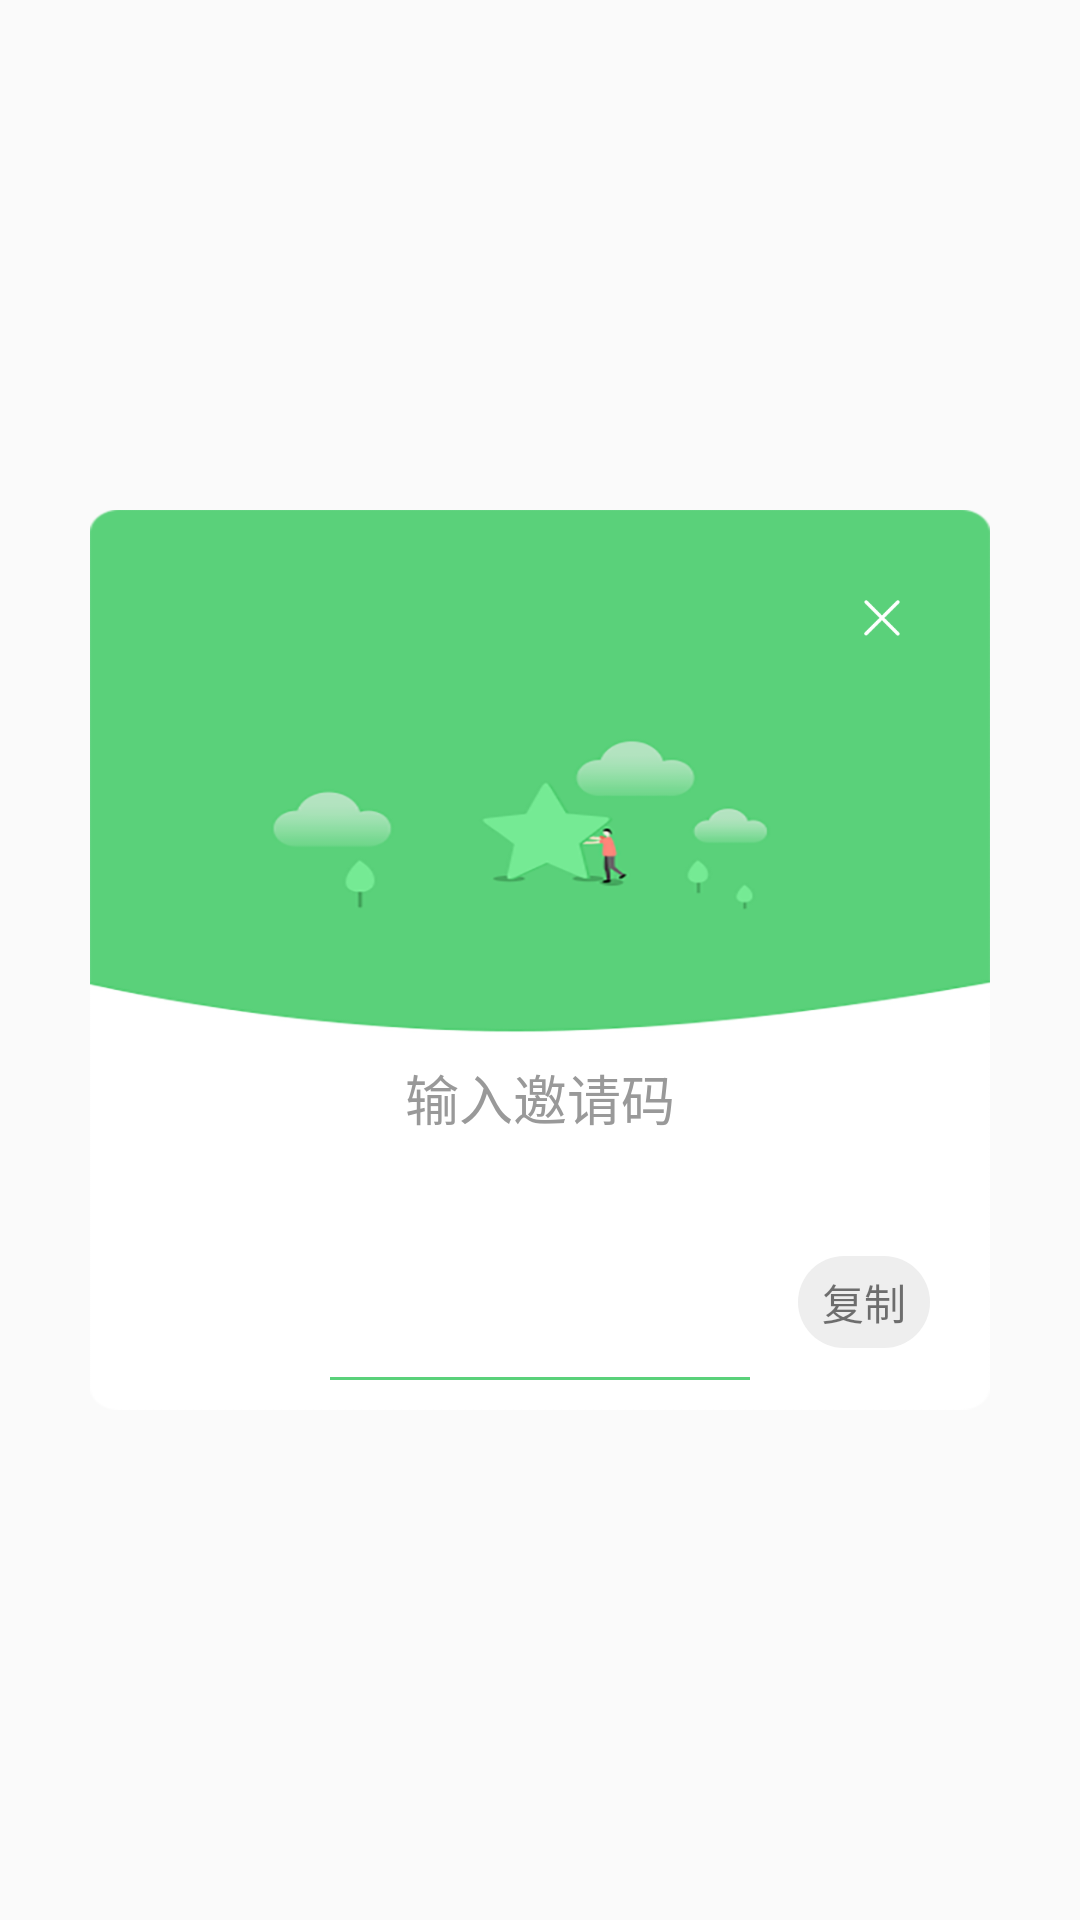

Icon bounding boxes for this 1080×1920 phone screenshot, format (x1, y1, x2, y2):
invitecodeclose: (864, 600, 900, 636)
